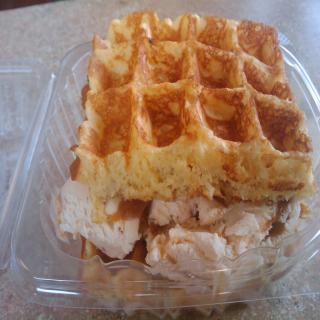Waffle: (71, 7, 314, 201), (76, 237, 259, 320)
